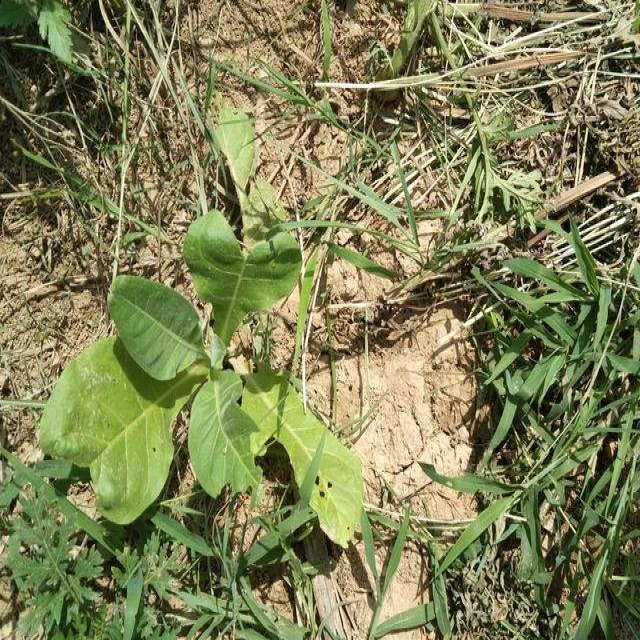crop: (57, 114, 370, 542)
